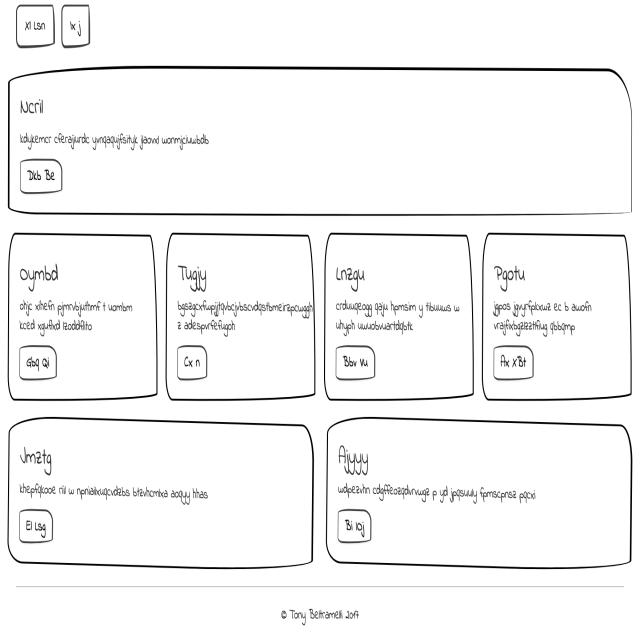Button: (13, 341, 66, 387), (17, 156, 71, 199), (330, 346, 381, 387), (171, 337, 213, 386), (492, 343, 533, 380)
Card: (4, 64, 635, 223), (326, 418, 632, 569), (5, 421, 314, 568), (167, 231, 316, 403), (8, 231, 160, 399), (480, 234, 632, 402), (324, 234, 473, 402)
Footer: (0, 577, 640, 640)
Heading 6: (331, 436, 382, 484), (14, 252, 66, 292), (16, 438, 70, 476), (492, 249, 531, 296), (176, 253, 212, 293), (334, 256, 370, 294), (18, 93, 51, 121)
Navigation Bar: (13, 0, 95, 58)
Paragraph: (17, 472, 217, 509), (335, 293, 462, 340), (330, 480, 543, 508), (13, 293, 145, 338), (173, 296, 315, 337), (491, 290, 605, 340), (17, 128, 216, 154)
